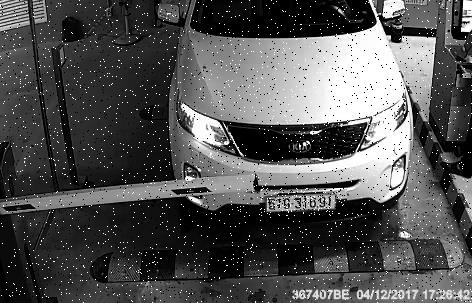License-plate: (261, 190, 348, 218)
